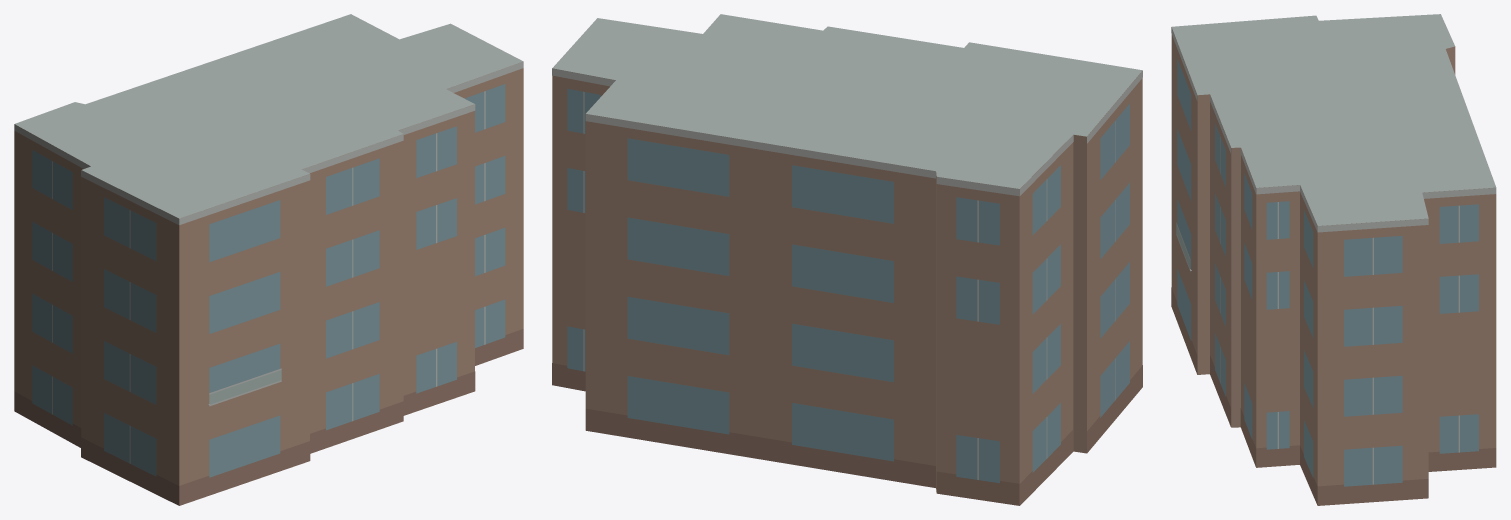
File: survey-upis-32742931.glb
The picture shows the model from 3 angles, left to right: view 1: azimuth 30°, elevation 25°; view 2: azimuth 150°, elevation 25°; view 3: azimuth 270°, elevation 25°; orthographic projection. The views are drawn at different scales.
Parts seen in each view (by area): view 1: survey-upis-32742931.tmp; view 2: survey-upis-32742931.tmp; view 3: survey-upis-32742931.tmp.
Boxes of the visible parts, x1,y1,x2,y2 form: survey-upis-32742931.tmp: [14, 14, 523, 505]; survey-upis-32742931.tmp: [552, 14, 1142, 505]; survey-upis-32742931.tmp: [1171, 14, 1496, 505].
Bounding box in the file's own units: 17.24 × 10.6 × 11.16.
